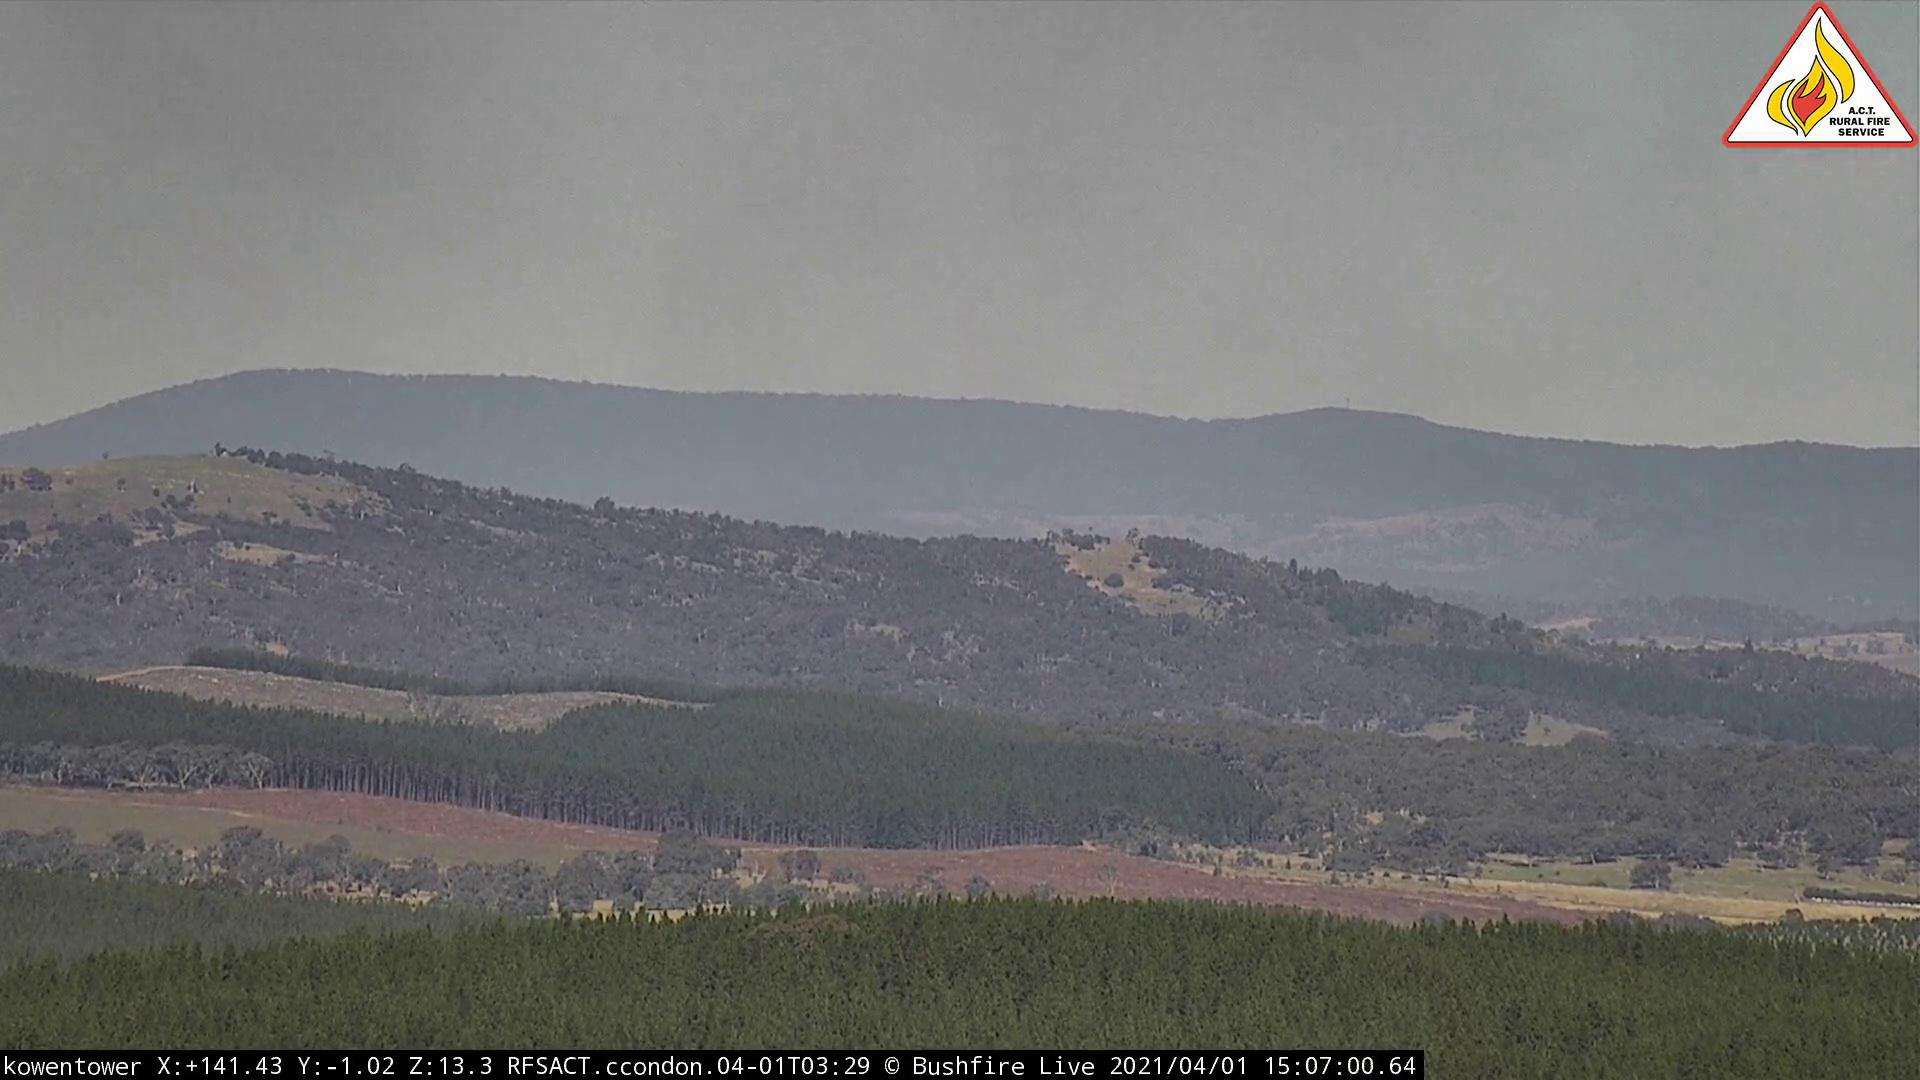Smoke: (553, 69, 1505, 504)
